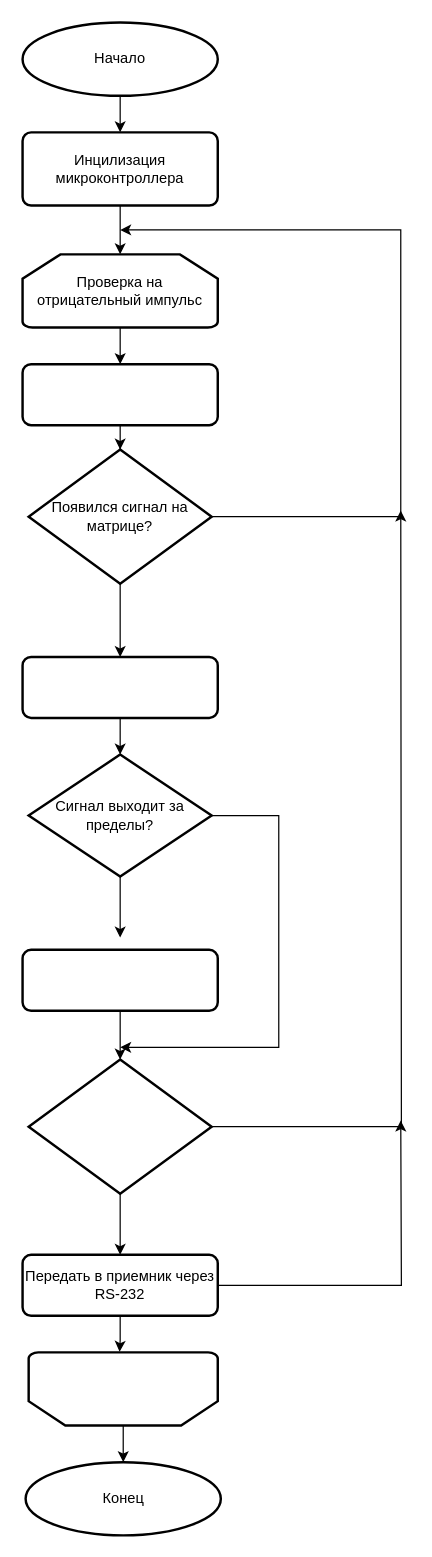
The diagram is 432 pixels wide and 1557 high, and some of its shapes have lost their labels. Each missing label, with the centre of its shape:
Включение соответствующего канала на АЦП: the point at 119,687
Включение соответствующего светодиода: the point at 119,979
Опрос матрицы 4x4: the point at 119,394
Пришло внешнее прерывание?: the point at 119,1126
